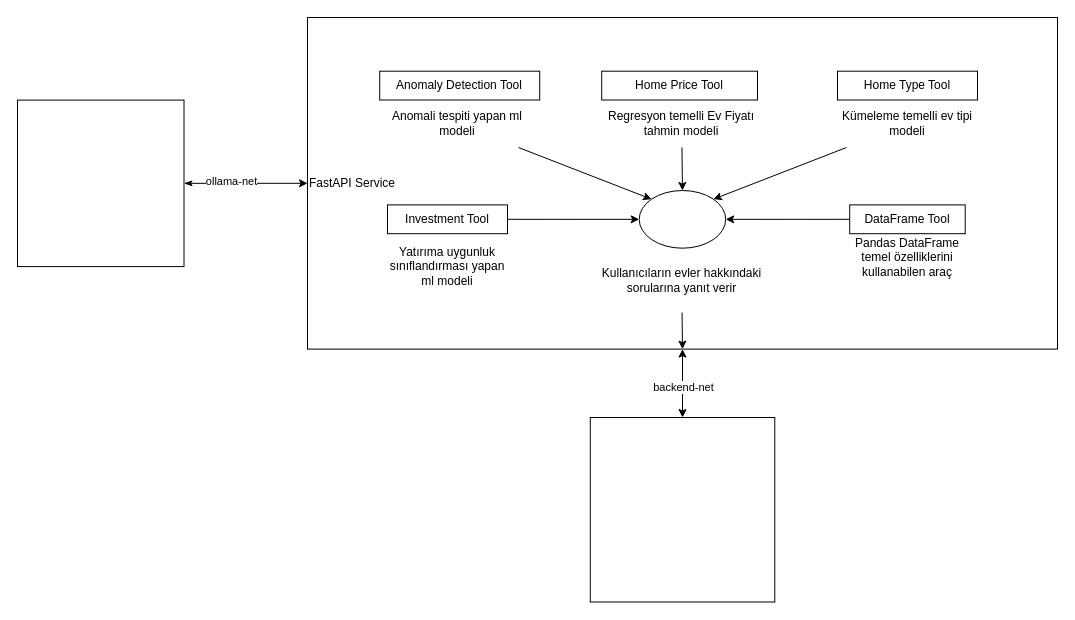
The diagram is 1075 pixels wide and 620 high, and some of its shapes have lost their labels. The box of each missing label's shape, as (x1, y1, x2, y2) in pixels:
Agent: (638, 190, 726, 248)
Fronted Service (Streamlit App): (589, 416, 775, 602)
Ollama Service: (16, 99, 184, 267)
